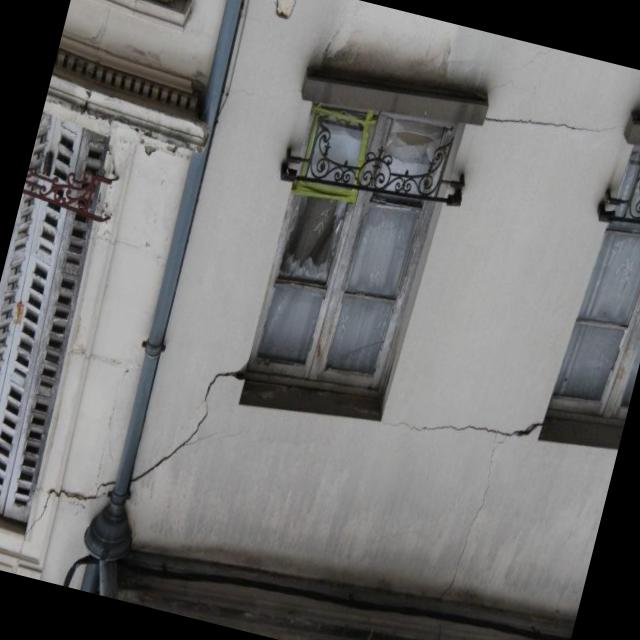crack: (129, 360, 248, 482), (25, 479, 114, 537), (384, 423, 540, 440), (483, 116, 613, 133), (321, 22, 345, 71)
